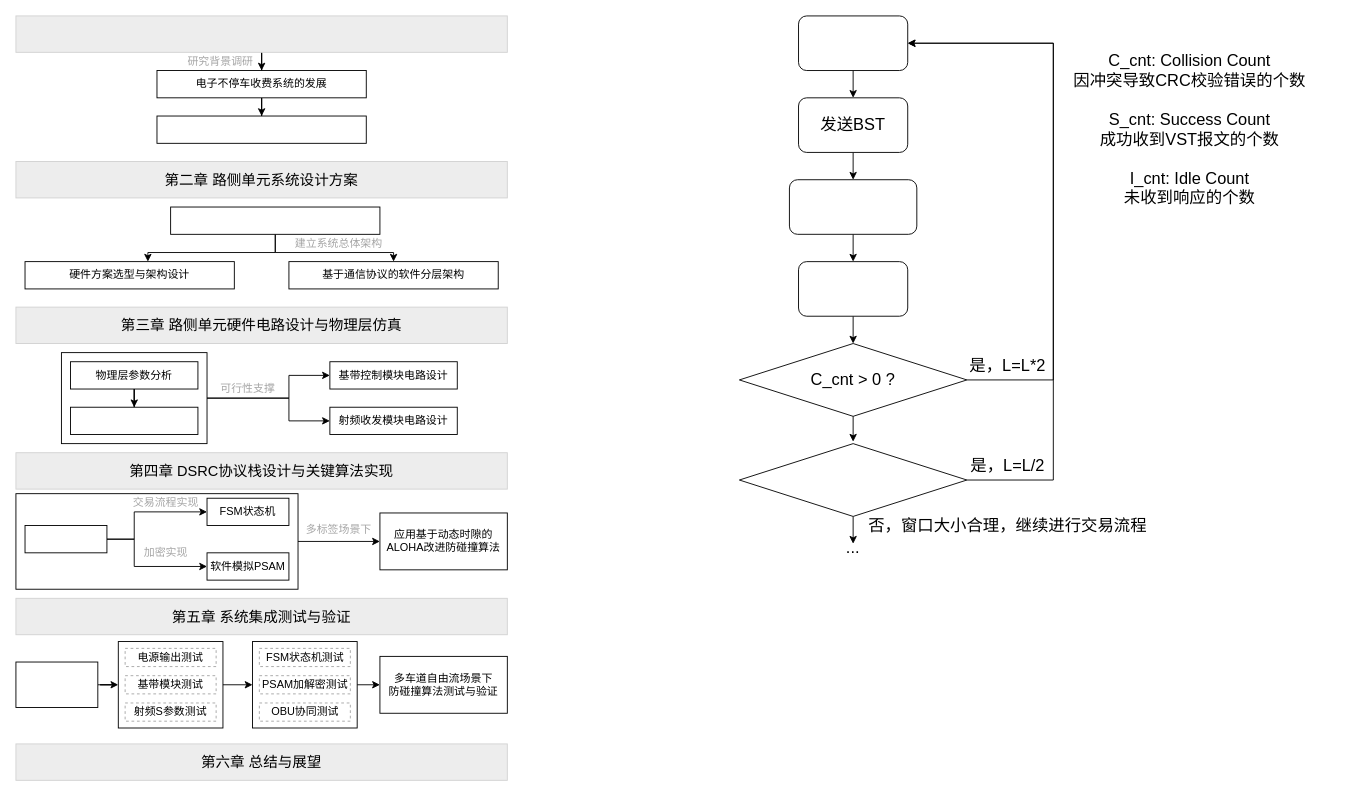
This 1360x796 diagram has some shape labels left out. The centre of each missing label's shape, as x and y in pixels:
"DSRC协议分析" goes at point (65, 539).
"I_cnt > S_cnt ?" goes at point (852, 479).
"多车道自由流下的OBU标签碰撞问题" goes at point (261, 129).
"开启接收窗口" goes at point (853, 206).
"待机状态" goes at point (853, 43).
"测试环境搭建 测试方案建立" goes at point (56, 684).
"物理层Matlab仿真" goes at point (134, 420).
"第一章 绪论" goes at point (261, 33).
"统计变量" goes at point (853, 288).
"路侧单元性能需求分析" goes at point (275, 220).
